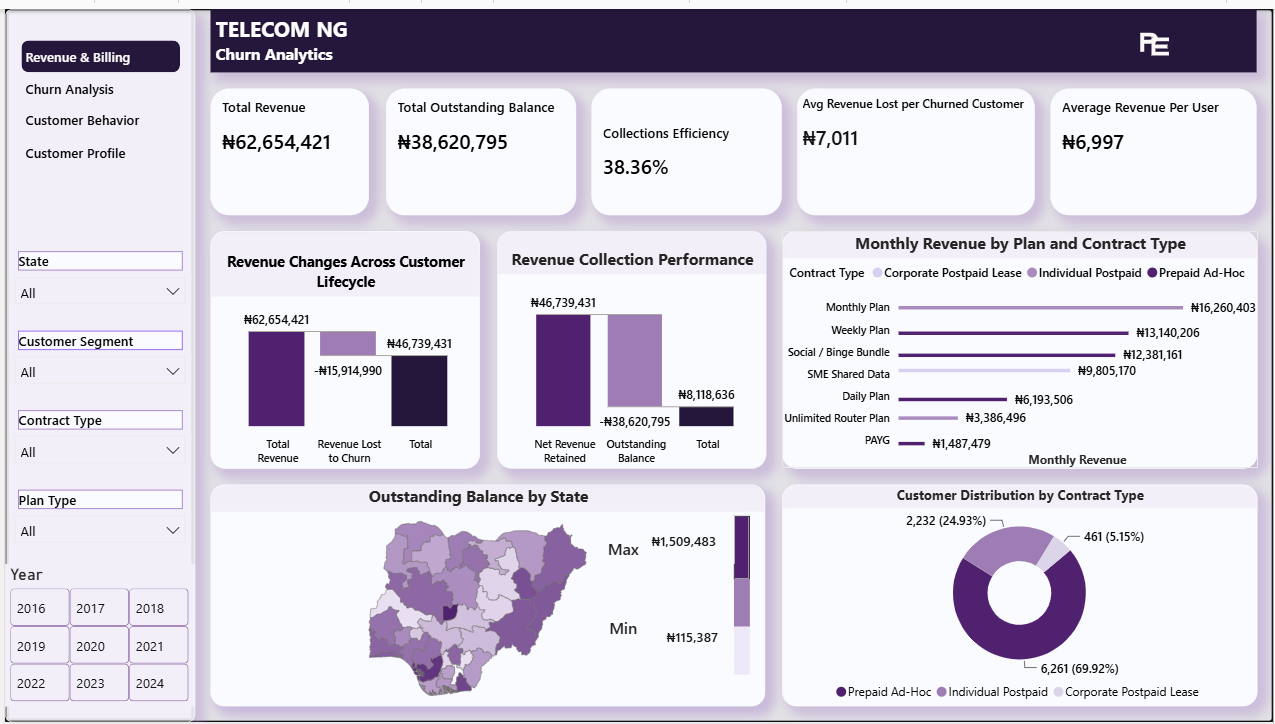

What the dashboard file says about the page in this screenshot:
{"tool":"powerbi","page":{"name":"Revenue & Billling","canvas":[1280,720],"ordinal":0},"visuals":[{"type":"cardVisual","fields":{"Data":["Measures..Avg Revenue Lost per Churned Customer"]},"box":[800,80,240,128],"z":0},{"type":"shape","box":[0,0,192,720],"z":2000},{"type":"actionButton","box":[16,32,160,32],"z":3000},{"type":"actionButton","box":[16,64,192,32],"z":4000},{"type":"actionButton","box":[16,96,176,32],"z":5000},{"type":"actionButton","box":[16,128,176,32],"z":6000},{"type":"textbox","box":[208,0,1056,64],"z":8000},{"type":"image","box":[1120,16,64,32],"z":9000},{"type":"slicer","fields":{"Values":["TelecomChurn_Nigeria_Clean.State"]},"box":[0,240,192,64],"z":10000},{"type":"slicer","fields":{"Values":["TelecomChurn_Nigeria_Clean.Customer_Segment"]},"box":[0,320,192,64],"z":11000},{"type":"slicer","fields":{"Values":["TelecomChurn_Nigeria_Clean.Plan_Type"]},"box":[0,480,192,64],"z":12000},{"type":"slicer","fields":{"Values":["TelecomChurn_Nigeria_Clean.Contract_Type"]},"box":[0,400,192,64],"z":13000},{"type":"cardVisual","fields":{"Data":["Measures..Total Outstanding Balance"]},"box":[384,80,192,128],"z":14000},{"type":"clusteredBarChart","title":"Monthly Revenue by Plan and Contract Type","fields":{"Category":["TelecomChurn_Nigeria_Clean.Plan_Type"],"Y":["Measures..Monthly Revenue"],"Series":["TelecomChurn_Nigeria_Clean.Contract_Type"]},"box":[784,224,480,240],"z":15000},{"type":"donutChart","title":"Customer Distribution by Contract Type","fields":{"Category":["TelecomChurn_Nigeria_Clean.Contract_Type"],"Y":["Measures..Total Customers"]},"box":[784,480,480,224],"z":16000},{"type":"waterfallChart","title":"Revenue Changes Across Customer Lifecycle","fields":{"Y":["Revenue Waterfall.Waterfall Value"],"Category":["Revenue Waterfall.Category"]},"box":[208,224,272,240],"z":17000},{"type":"shapeMap","title":"Outstanding Balance by State","fields":{"Value":["Measures..Total Outstanding Balance"],"Category":["TelecomChurn_Nigeria_Clean.State."]},"box":[208,480,560,224],"z":18000},{"type":"shape","box":[736,512,16,64],"z":19000},{"type":"shape","box":[736,624,16,48],"z":20000},{"type":"shape","box":[736,576,16,48],"z":21000},{"type":"textbox","box":[592,528,64,48],"z":22000},{"type":"textbox","box":[592,608,64,32],"z":23000},{"type":"cardVisual","fields":{"Data":["Measures..Average Revenue Per User"]},"box":[1056,80,208,128],"z":24000},{"type":"cardVisual","fields":{"Data":["Measures..Collections Efficiency Index"]},"box":[592,80,192,128],"z":25000},{"type":"advancedSlicerVisual","fields":{"Values":["Date Table.Year"]},"box":[0,560,192,144],"z":26000},{"type":"waterfallChart","title":"Revenue Collection Performance","fields":{"Category":["Cash Collection Waterfall.Category"],"Y":["Cash Collection Waterfall.Collection Waterfall Value"]},"box":[496,224,272,240],"z":27000},{"type":"cardVisual","fields":{"Data":["Measures..Max"]},"box":[640,512,96,48],"z":28000},{"type":"cardVisual","fields":{"Data":["Measures..Min State Outstanding Balance"]},"box":[656,608,80,48],"z":29000},{"type":"cardVisual","fields":{"Data":["Measures..Monthly Revenue"]},"box":[208,80,160,128],"z":31000}]}

Visuals, with their boxes on the page's 1280x720 design canvas (x1, y1, x2, y2). These are canvas units, not pixel positions in the 1275x724 screenshot, which may show the page scaled, cropped or inside an application window:
cardVisual - Measures..Avg Revenue Lost per Churned Customer: (x1=800, y1=80, x2=1040, y2=208)
shape: (x1=0, y1=0, x2=192, y2=720)
actionButton: (x1=16, y1=32, x2=176, y2=64)
actionButton: (x1=16, y1=64, x2=208, y2=96)
actionButton: (x1=16, y1=96, x2=192, y2=128)
actionButton: (x1=16, y1=128, x2=192, y2=160)
textbox: (x1=208, y1=0, x2=1264, y2=64)
image: (x1=1120, y1=16, x2=1184, y2=48)
slicer - TelecomChurn_Nigeria_Clean.State: (x1=0, y1=240, x2=192, y2=304)
slicer - TelecomChurn_Nigeria_Clean.Customer_Segment: (x1=0, y1=320, x2=192, y2=384)
slicer - TelecomChurn_Nigeria_Clean.Plan_Type: (x1=0, y1=480, x2=192, y2=544)
slicer - TelecomChurn_Nigeria_Clean.Contract_Type: (x1=0, y1=400, x2=192, y2=464)
cardVisual - Measures..Total Outstanding Balance: (x1=384, y1=80, x2=576, y2=208)
"Monthly Revenue by Plan and Contract Type" clusteredBarChart: (x1=784, y1=224, x2=1264, y2=464)
"Customer Distribution by Contract Type" donutChart: (x1=784, y1=480, x2=1264, y2=704)
"Revenue Changes Across Customer Lifecycle" waterfallChart: (x1=208, y1=224, x2=480, y2=464)
"Outstanding Balance by State" shapeMap: (x1=208, y1=480, x2=768, y2=704)
shape: (x1=736, y1=512, x2=752, y2=576)
shape: (x1=736, y1=624, x2=752, y2=672)
shape: (x1=736, y1=576, x2=752, y2=624)
textbox: (x1=592, y1=528, x2=656, y2=576)
textbox: (x1=592, y1=608, x2=656, y2=640)
cardVisual - Measures..Average Revenue Per User: (x1=1056, y1=80, x2=1264, y2=208)
cardVisual - Measures..Collections Efficiency Index: (x1=592, y1=80, x2=784, y2=208)
advancedSlicerVisual - Date Table.Year: (x1=0, y1=560, x2=192, y2=704)
"Revenue Collection Performance" waterfallChart: (x1=496, y1=224, x2=768, y2=464)
cardVisual - Measures..Max: (x1=640, y1=512, x2=736, y2=560)
cardVisual - Measures..Min State Outstanding Balance: (x1=656, y1=608, x2=736, y2=656)
cardVisual - Measures..Monthly Revenue: (x1=208, y1=80, x2=368, y2=208)
